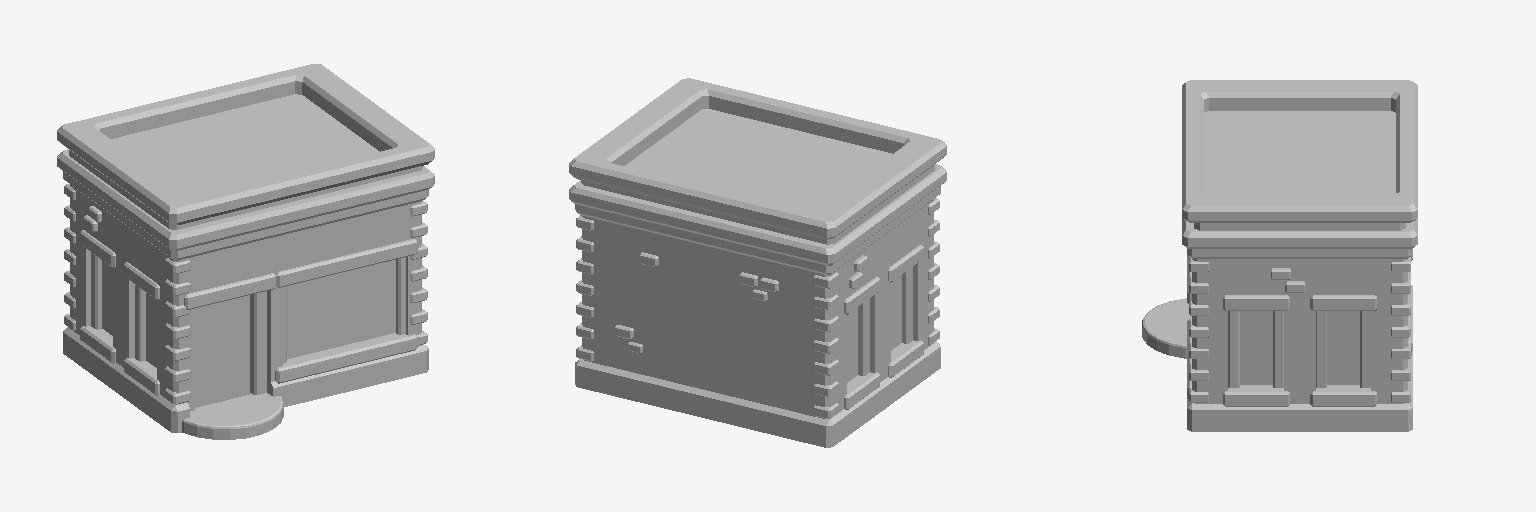
Rendered from bakery_B.obj.
The picture shows the model from 3 angles: view 1: azimuth 30°, elevation 25°; view 2: azimuth 150°, elevation 25°; view 3: azimuth 270°, elevation 25°; orthographic projection.
Parts seen in each view (by area): view 1: bakery_B; view 2: bakery_B; view 3: bakery_B.
Boxes of the visible parts, x1=… form: bakery_B: x1=57, y1=64, x2=434, y2=439; bakery_B: x1=569, y1=78, x2=946, y2=447; bakery_B: x1=1142, y1=80, x2=1417, y2=431.
Size of the model in its own units: 6.4 by 5.2 by 5.73.